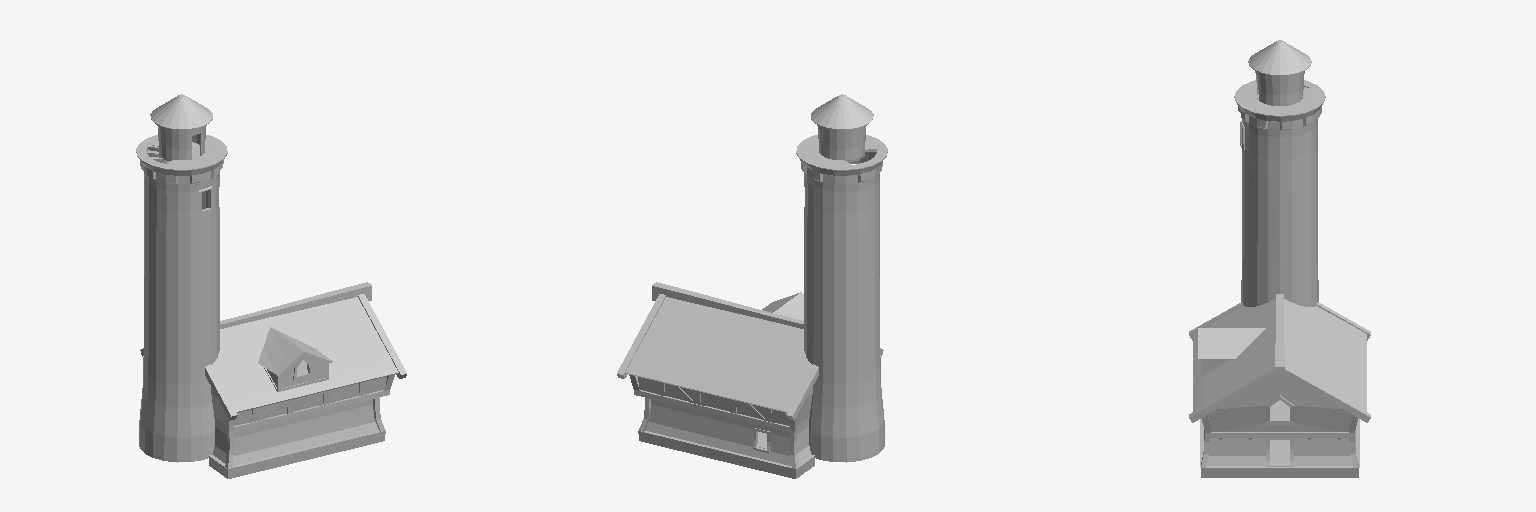
File: light_01.obj
The picture shows the model from 3 angles: view 1: azimuth 30°, elevation 25°; view 2: azimuth 150°, elevation 25°; view 3: azimuth 270°, elevation 25°; orthographic projection.
Parts seen in each view (by area): view 1: lighthouse1 lighthouse_lp, outside_low outside_lp, outside_lp beams_low; view 2: lighthouse1 lighthouse_lp, outside_low outside_lp, outside_lp beams_low; view 3: outside_low outside_lp, lighthouse1 lighthouse_lp, outside_lp beams_low.
Part boxes in pixels (x1,y1,x2,y2): lighthouse1 lighthouse_lp: (136,94,227,462); outside_low outside_lp: (209,297,398,478); outside_lp beams_low: (140,282,406,468); lighthouse1 lighthouse_lp: (796,94,887,462); outside_low outside_lp: (625,292,814,478); outside_lp beams_low: (617,282,883,468); outside_low outside_lp: (1193,299,1366,477); lighthouse1 lighthouse_lp: (1234,40,1325,306); outside_lp beams_low: (1189,294,1370,467).
Bounding box in the file's own units: 26.04 × 38.89 × 18.05.